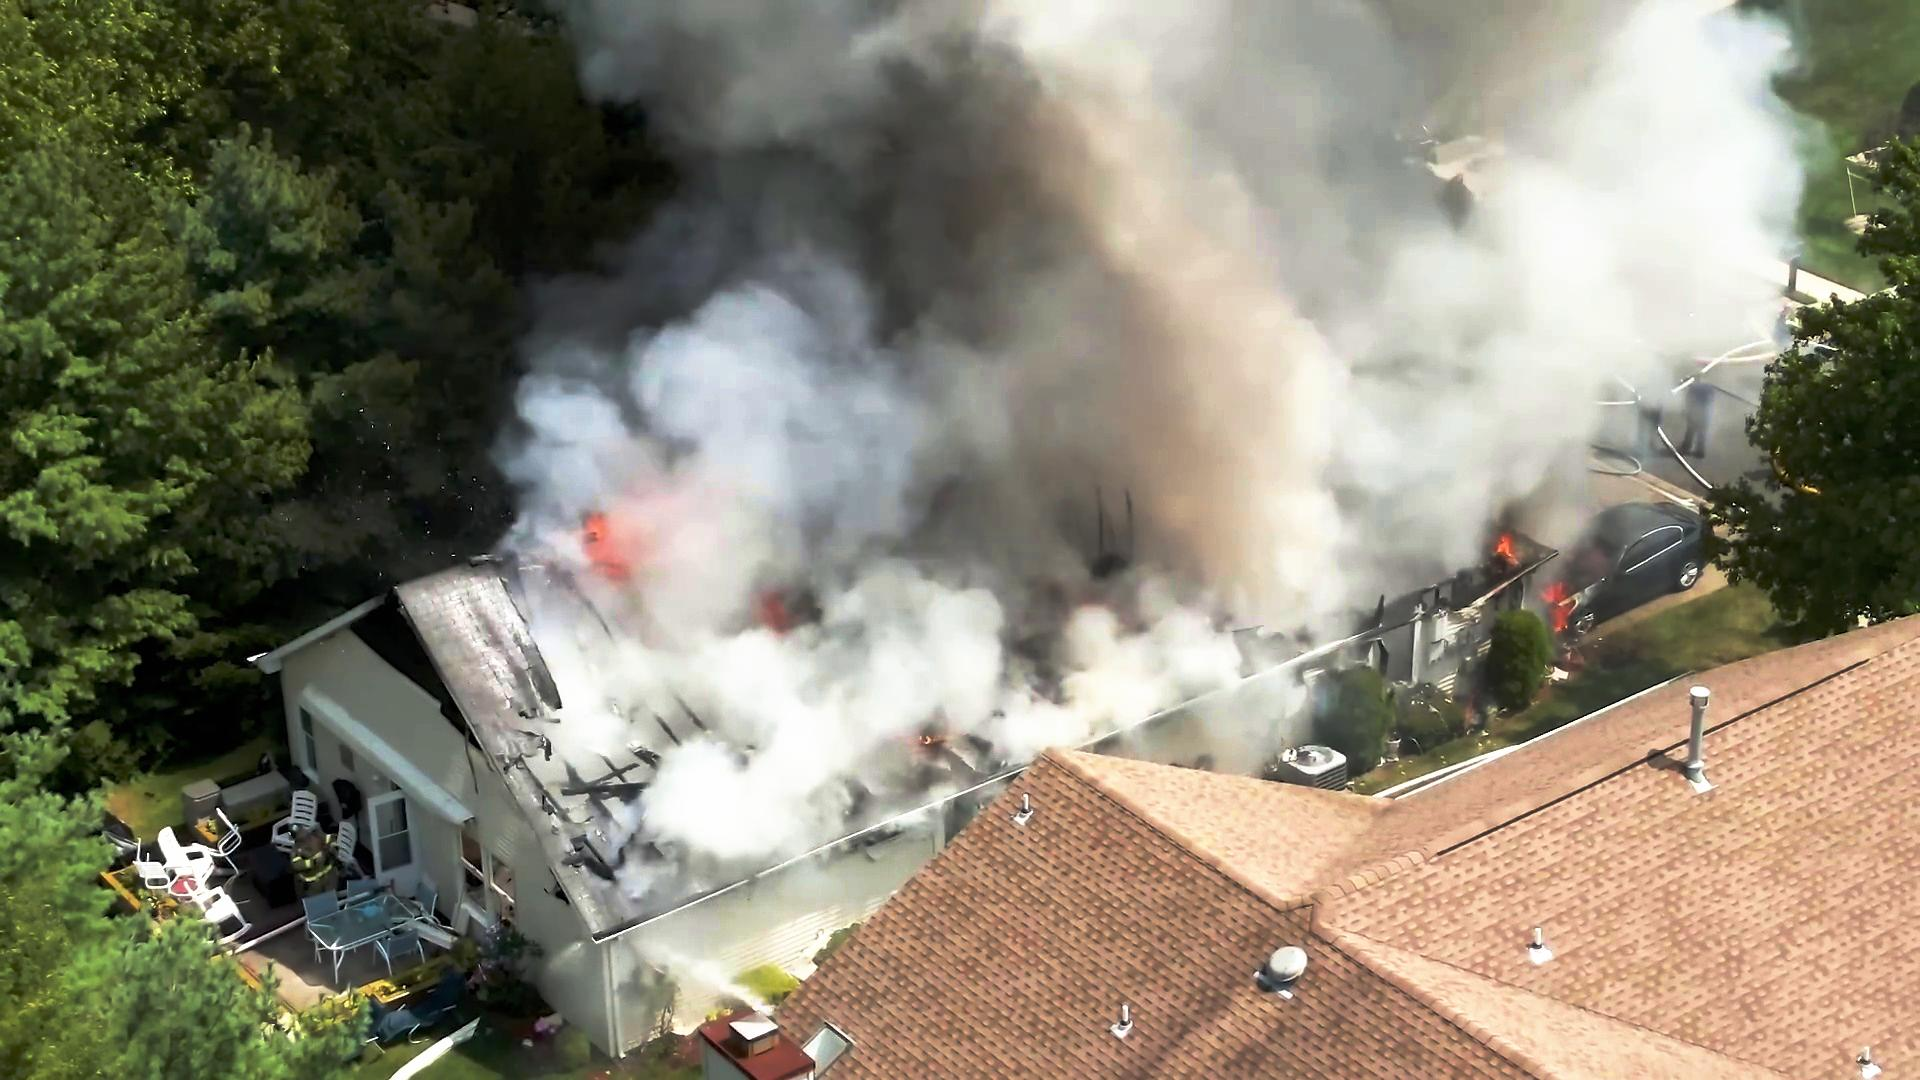smoke: (1247, 0, 1691, 553), (640, 0, 1320, 343), (526, 293, 909, 735), (881, 289, 1275, 663)
